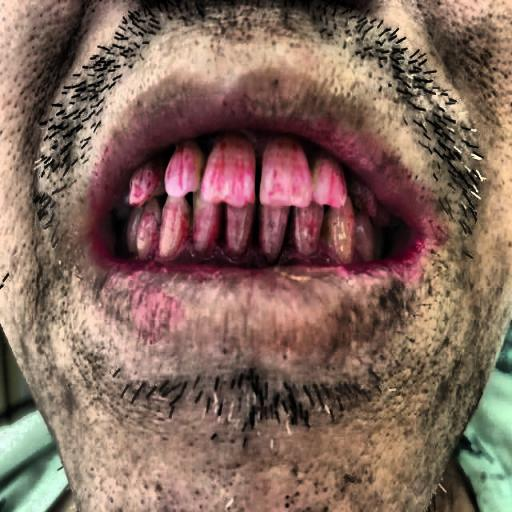Plaque: (114, 125, 386, 276)
